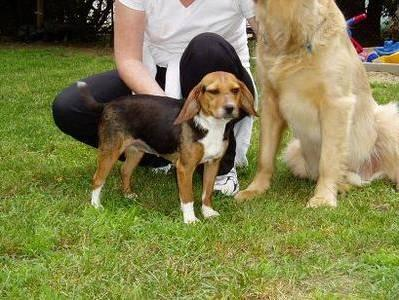dog: (234, 0, 398, 206), (91, 72, 255, 220)
